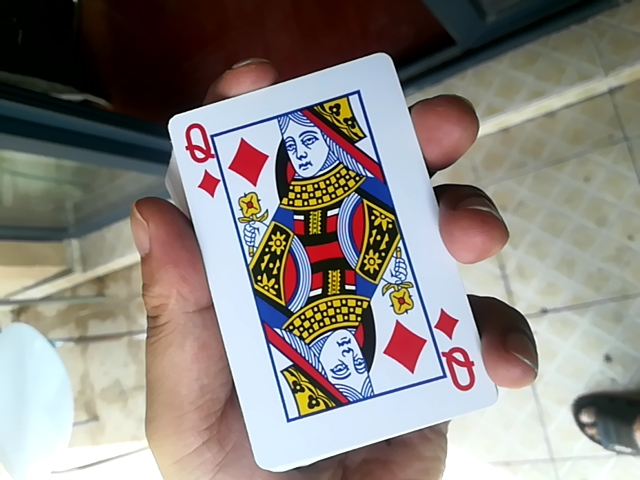fk q: (167, 56, 488, 475)
